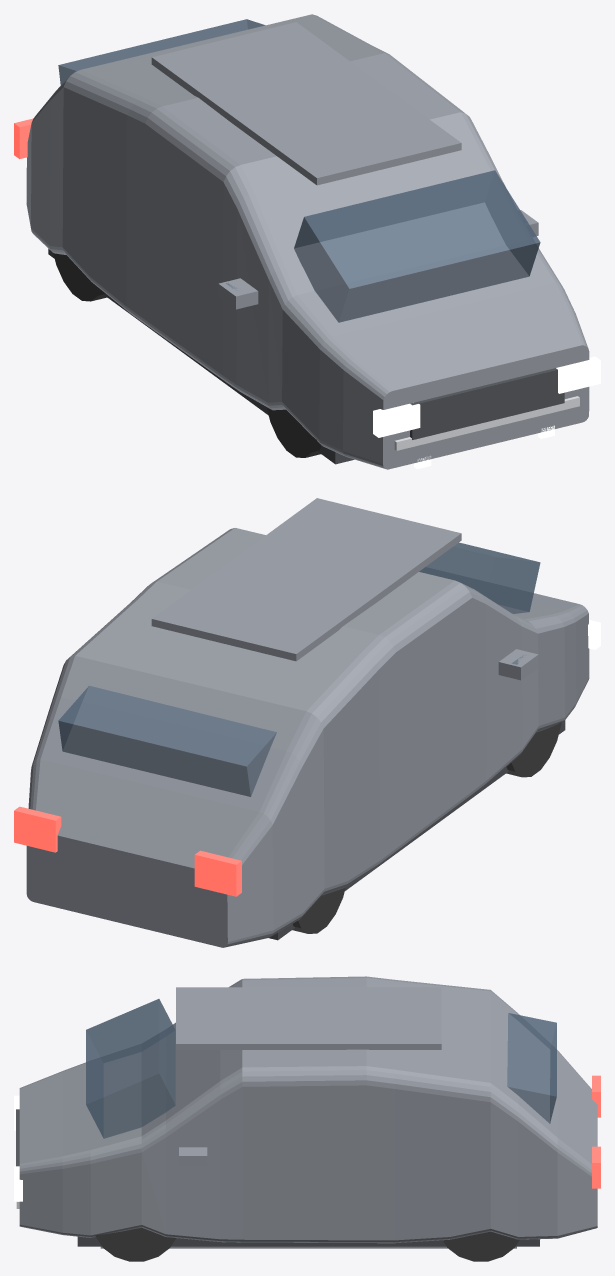
File: korando.glb
The picture shows the model from 3 angles, top to bottom: view 1: azimuth 30°, elevation 25°; view 2: azimuth 150°, elevation 25°; view 3: azimuth 270°, elevation 25°; orthographic projection. The views are drawn at different scales.
Parts seen in each view (by area): view 1: korando; view 2: korando; view 3: korando.
Boxes of the visible parts, box(x1,y1,x2,y2) form: korando: box(14, 14, 600, 469); korando: box(14, 498, 600, 947); korando: box(14, 976, 600, 1261).
Bounding box in the file's own units: 2.18 × 1.69 × 4.55.
